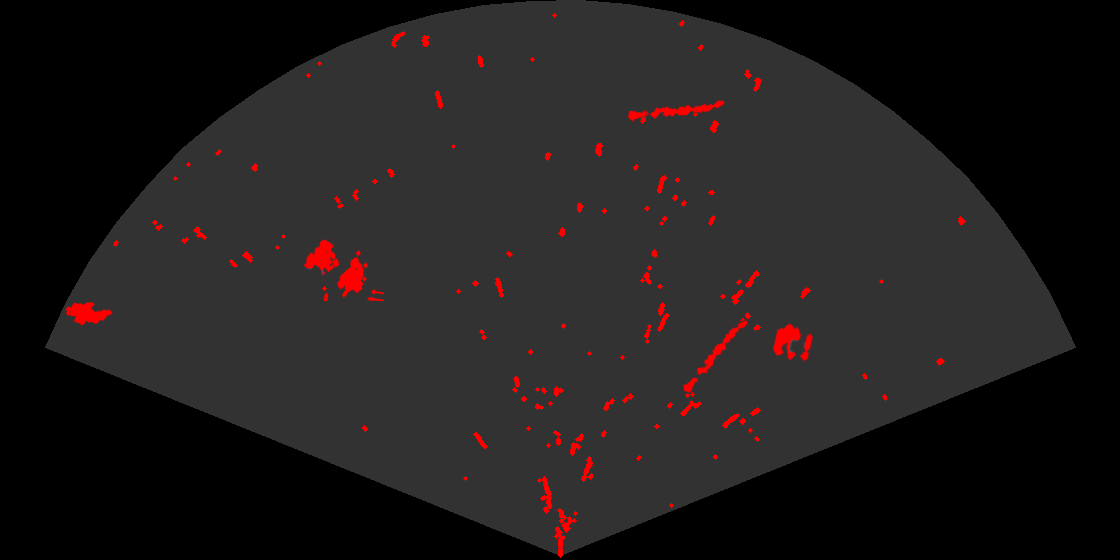AUV: (64, 301, 114, 327)
ball: (771, 322, 815, 363)
cage: (302, 238, 384, 301)
chain: (681, 319, 749, 395), (625, 99, 726, 123)
